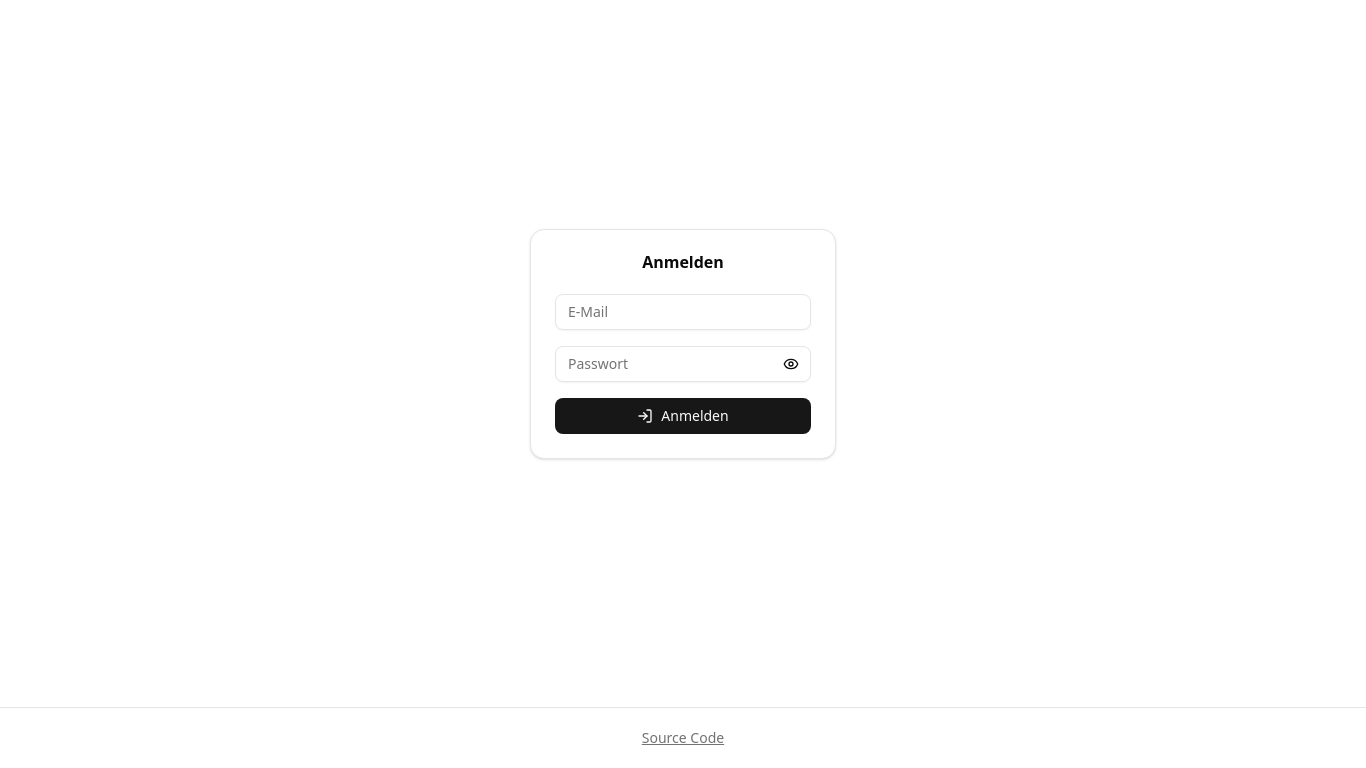
it: Login Tests › should show missing mail message
Click the button with test id "submit" at (683, 416), box [555,398,811,434]
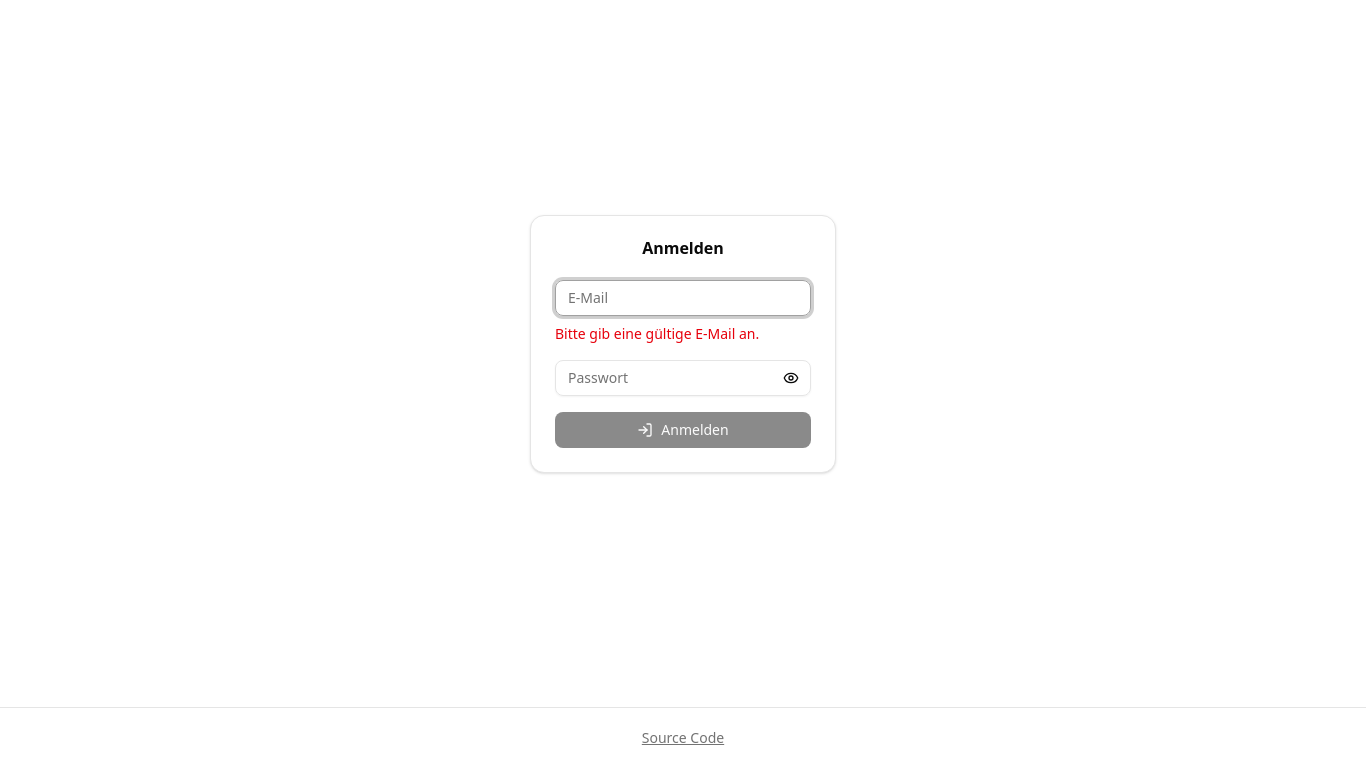
expect the text with test id "mail-message" reads "Bitte gib eine gültige E-Mail an.": met, box [555,324,759,343]
